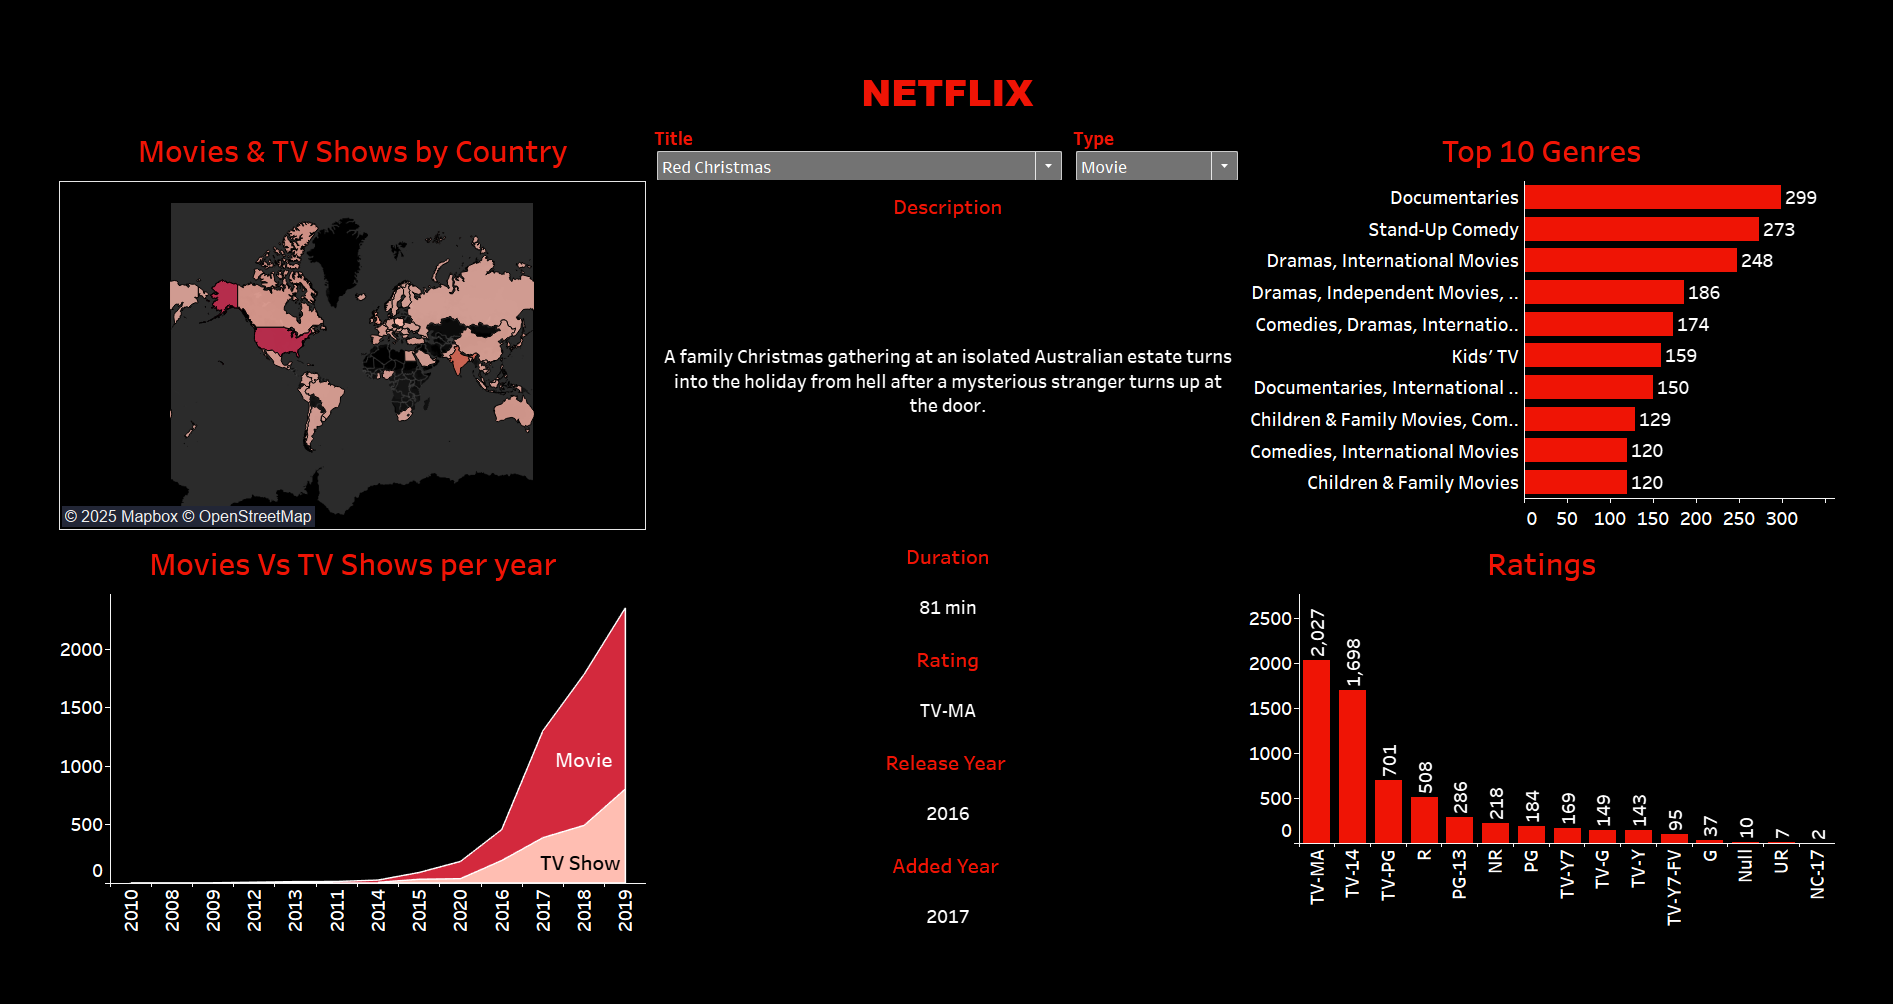

The dashboard page shown, as its layout file describes it:
{"tool":"tableau","page":{"name":"NETFLIX","canvas":[1800,900],"ordinal":0},"visuals":[{"type":"title","box":[8,8,1784,59]},{"type":"worksheet","title":"Movies & TV Shows by Country","mark":"Multipolygon","box":[8,67,594.7,412.5]},{"type":"filter","title":"Description","param":"[federated.0au9kyd0e25o1i16f6usv1h8o1yt].[none:title:nk]","box":[602.7,67,418.9,62.9]},{"type":"filter","title":"Description","param":"[federated.0au9kyd0e25o1i16f6usv1h8o1yt].[none:type:nk]","box":[1021.6,67,175.8,62.9]},{"type":"worksheet","title":"Top 10 Genres","mark":"Automatic","rows":["listed_in"],"cols":["show_id"],"box":[1197.3,67,594.7,412.5]},{"type":"worksheet","title":"Description","mark":"Automatic","box":[602.7,129.9,594.7,349.6]},{"type":"worksheet","title":"Movies Vs TV Shows per year","mark":"Area","rows":["show_id"],"cols":["date_added"],"box":[8,479.5,594.7,412.5]},{"type":"worksheet","title":"Duration","mark":"Automatic","box":[602.7,479.5,594.7,103.1]},{"type":"worksheet","title":"Ratings","mark":"Automatic","rows":["show_id"],"cols":["rating"],"box":[1197.3,479.5,594.7,412.5]},{"type":"worksheet","title":"Rating","mark":"Automatic","box":[602.7,582.6,594.7,103.1]},{"type":"worksheet","title":"Release Year","mark":"Automatic","box":[602.7,685.7,594.7,103.1]},{"type":"worksheet","title":"Year Added","mark":"Automatic","box":[602.7,788.9,594.7,103.1]}]}

Visuals, with their boxes on the page's 1800x900 design canvas (x1, y1, x2, y2). These are canvas units, not pixel positions in the 1893x1004 screenshot, which may show the page scaled, cropped or inside an application window:
title: (left=8, top=8, right=1792, bottom=67)
"Movies & TV Shows by Country" worksheet (Multipolygon marks): (left=8, top=67, right=603, bottom=480)
"Description" filter: (left=603, top=67, right=1022, bottom=130)
"Description" filter: (left=1022, top=67, right=1197, bottom=130)
"Top 10 Genres" worksheet: (left=1197, top=67, right=1792, bottom=480)
"Description" worksheet: (left=603, top=130, right=1197, bottom=480)
"Movies Vs TV Shows per year" worksheet (Area marks): (left=8, top=480, right=603, bottom=892)
"Duration" worksheet: (left=603, top=480, right=1197, bottom=583)
"Ratings" worksheet: (left=1197, top=480, right=1792, bottom=892)
"Rating" worksheet: (left=603, top=583, right=1197, bottom=686)
"Release Year" worksheet: (left=603, top=686, right=1197, bottom=789)
"Year Added" worksheet: (left=603, top=789, right=1197, bottom=892)
